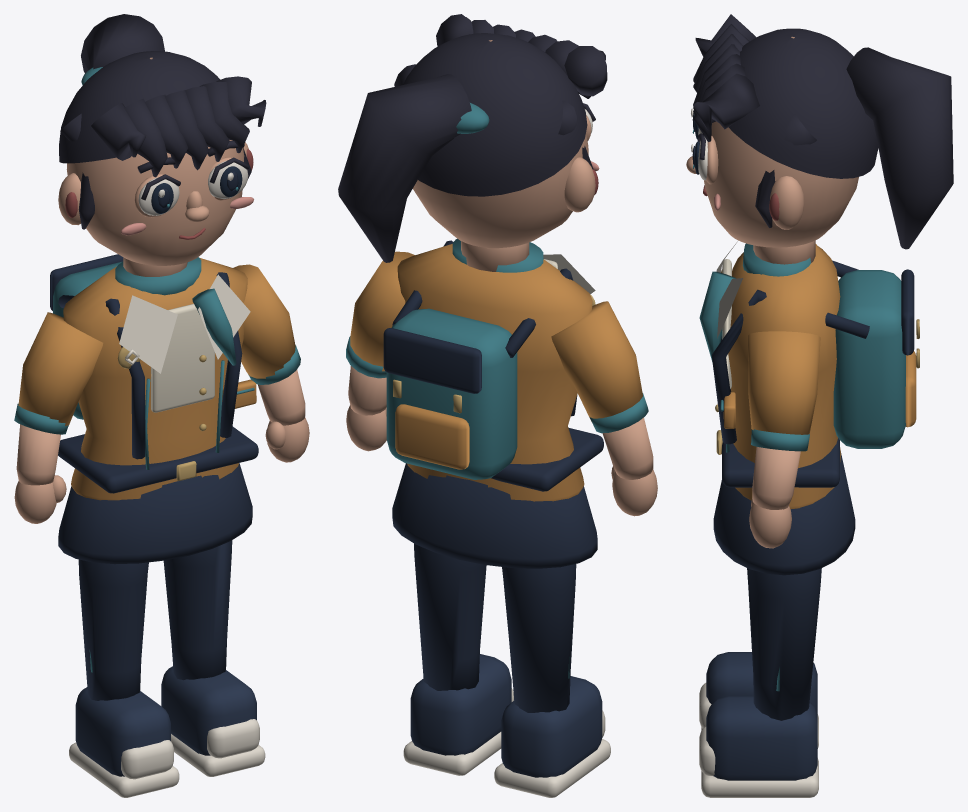
File: xingyin-characters-v1__blocky_character_d.glb
3 renders of one model, left to right at view 1: azimuth 30°, elevation 25°; view 2: azimuth 150°, elevation 25°; view 3: azimuth 270°, elevation 25°, orthographic. The views are drawn at different scales.
Parts seen in each view (by area): view 1: figure.003; view 2: figure.003; view 3: figure.003.
Part boxes in pixels (left/top/right/bottom): figure.003: left=14, top=14, right=309, bottom=797; figure.003: left=338, top=14, right=657, bottom=797; figure.003: left=686, top=14, right=953, bottom=797.
Bounding box in the file's own units: 1.09 × 2.5 × 0.8346.
